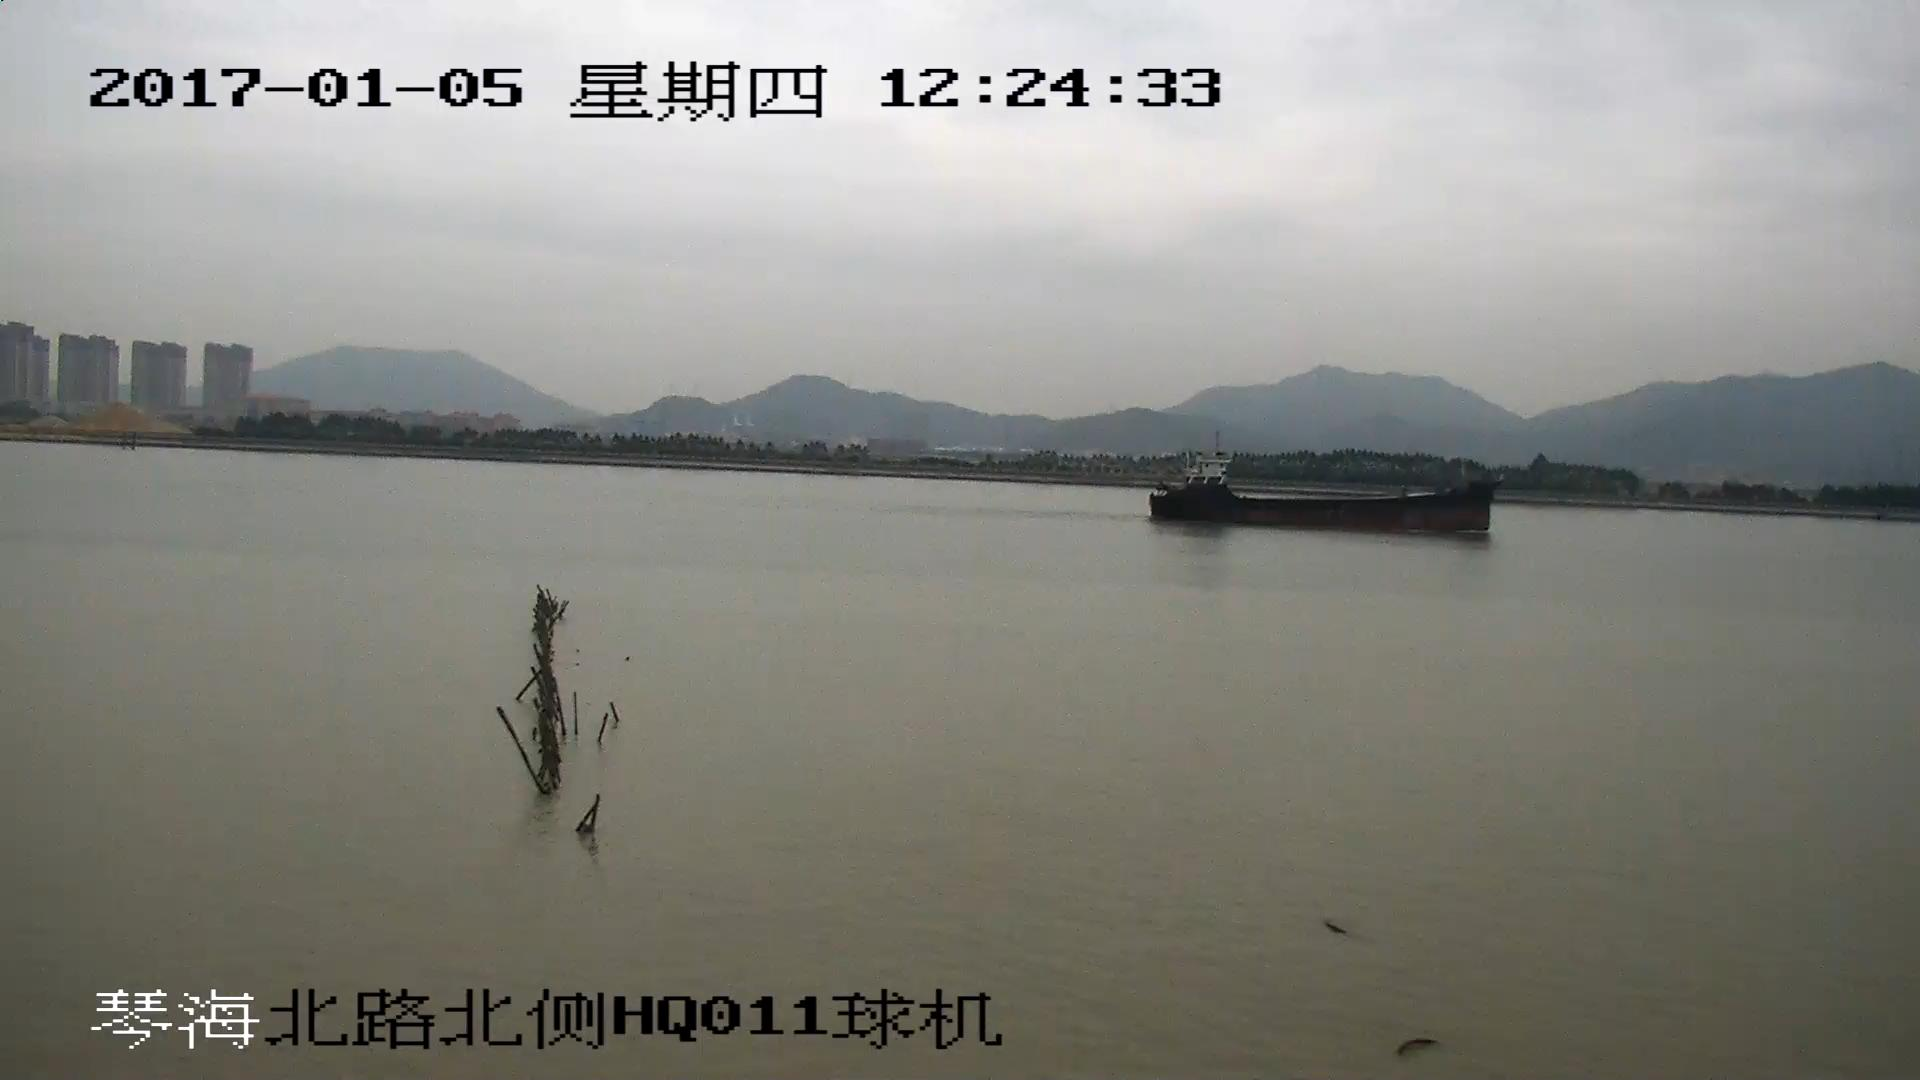general cargo ship: (1145, 453, 1500, 533)
